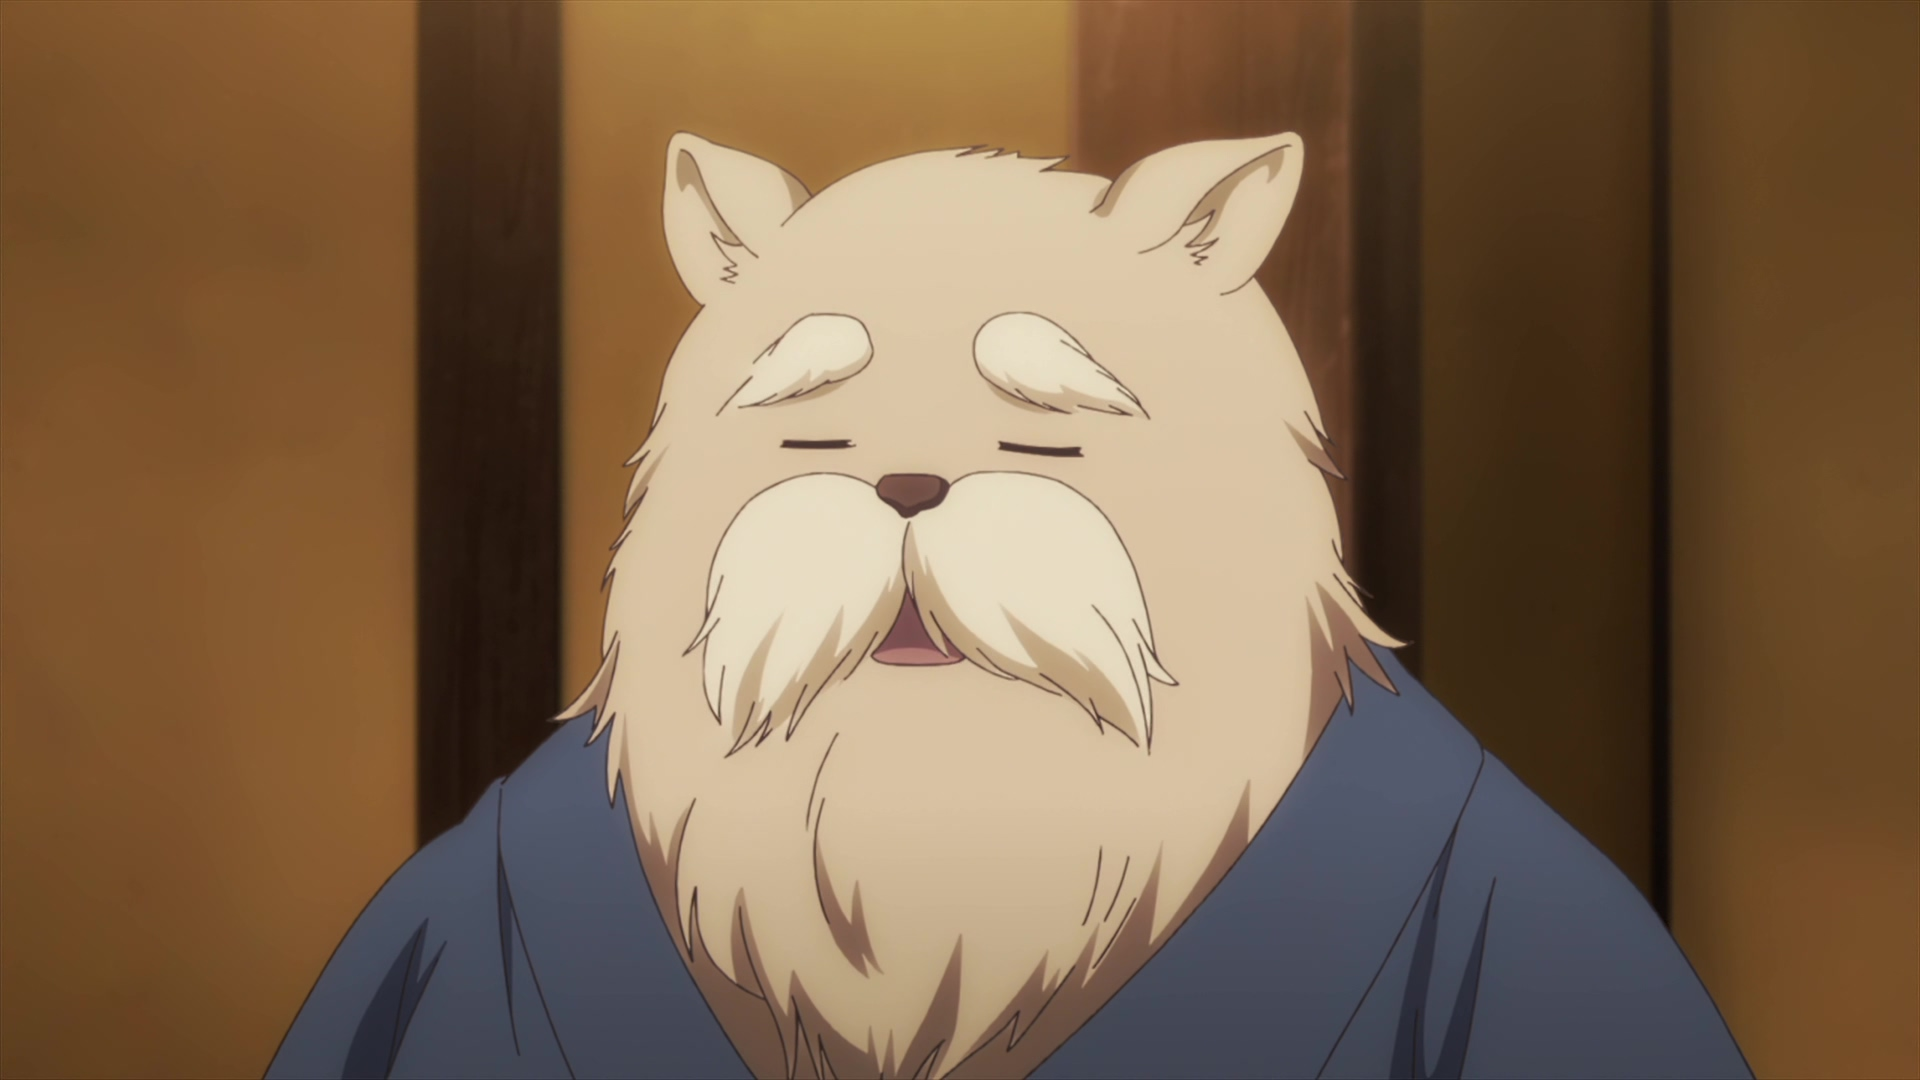药店老板: (258, 128, 1753, 1080)
